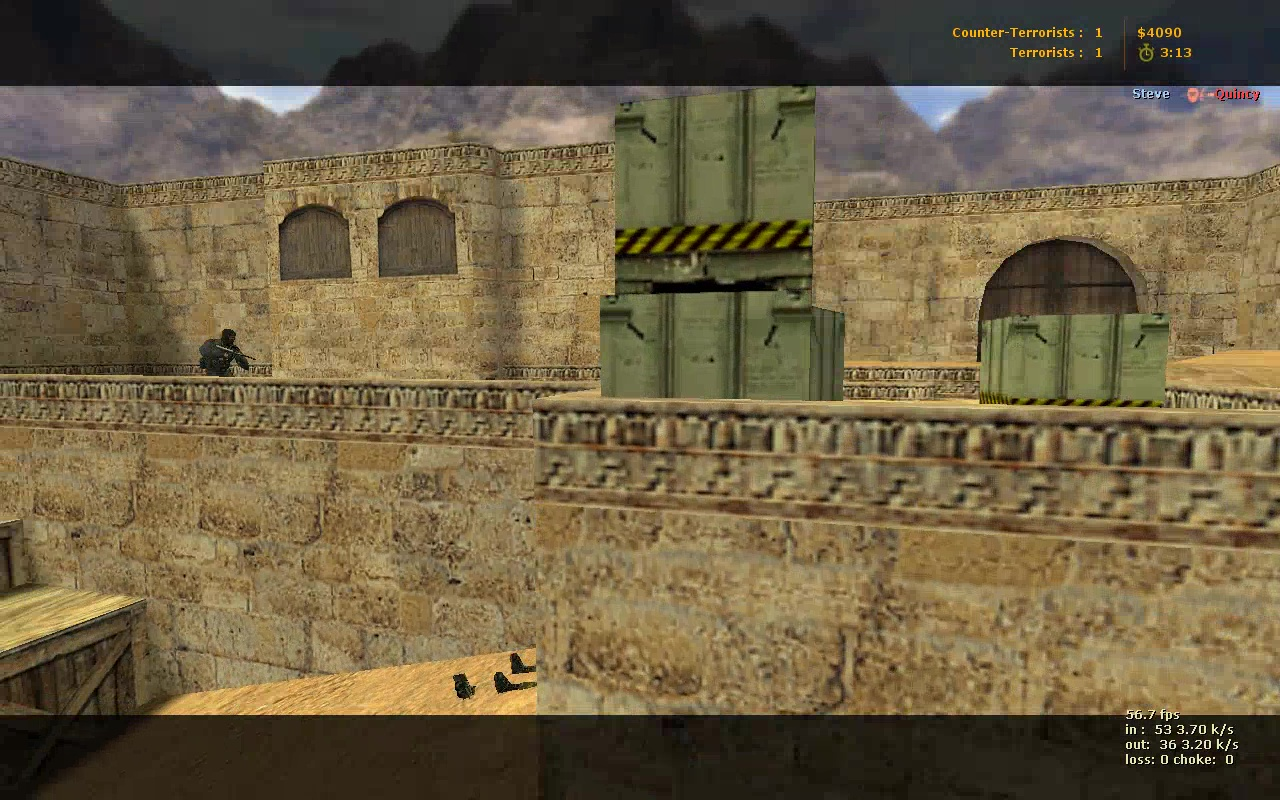ct: (199, 330, 251, 421)
